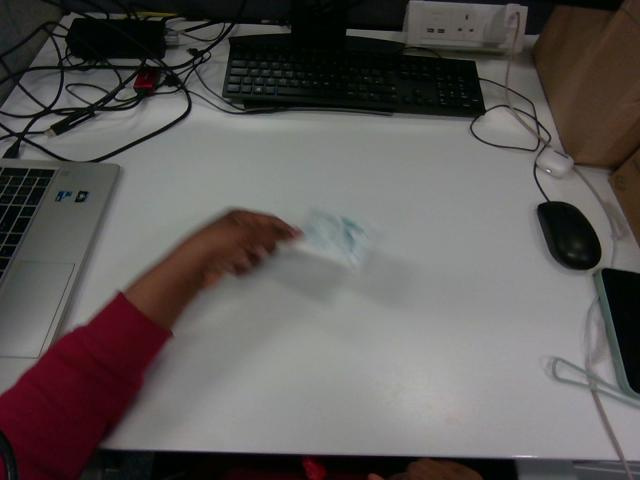gauze: (294, 209, 373, 268)
